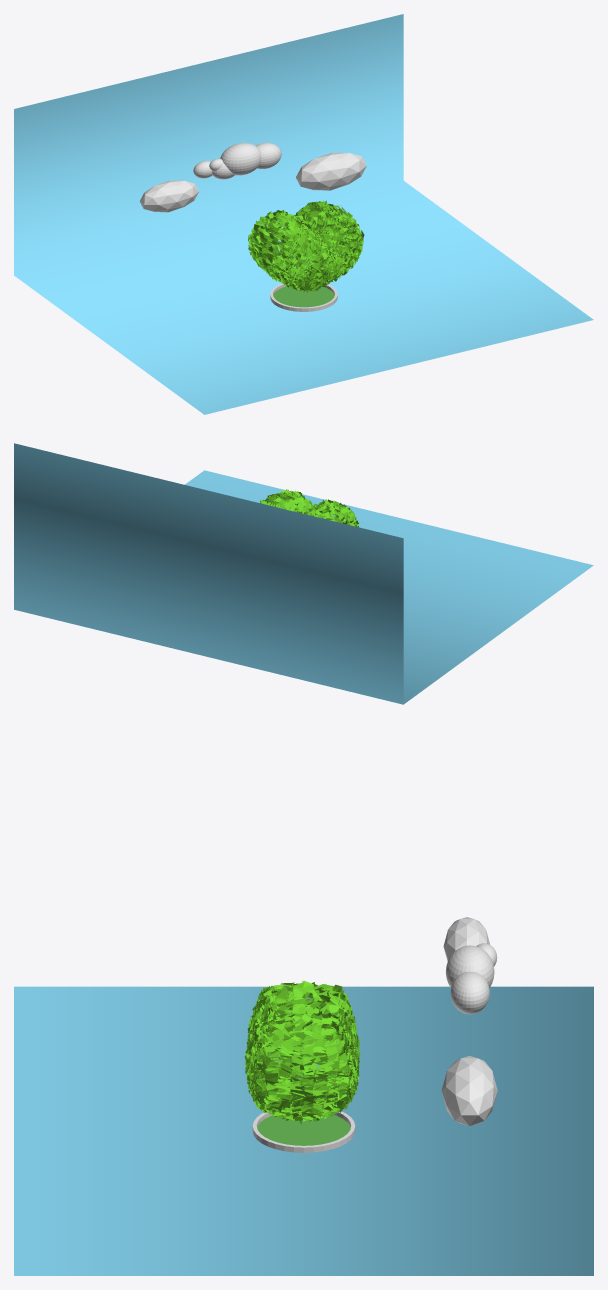
Rendered from 爱心树.glb.
The picture shows the model from 3 angles, top to bottom: view 1: azimuth 30°, elevation 25°; view 2: azimuth 150°, elevation 25°; view 3: azimuth 270°, elevation 25°; orthographic projection. The views are drawn at different scales.
Visible parts, largest first — view 1: 平面.002, 叶子, 叶子2, 球体, 棱角球, 地台, 棱角球.001; view 2: 平面.002, 叶子2, 叶子; view 3: 平面.002, 叶子, 叶子2, 地台, 棱角球, 球体, 棱角球.001.
Part boxes in pixels (<box>): 平面.002: <box>14,14,593,414</box>; 叶子: <box>248,200,364,292</box>; 叶子2: <box>248,201,358,288</box>; 球体: <box>193,142,281,179</box>; 棱角球: <box>296,152,366,190</box>; 地台: <box>270,283,337,311</box>; 棱角球.001: <box>139,180,198,212</box>; 平面.002: <box>14,443,593,704</box>; 叶子2: <box>263,491,358,526</box>; 叶子: <box>260,489,359,527</box>; 平面.002: <box>14,986,593,1275</box>; 叶子: <box>244,980,360,1124</box>; 叶子2: <box>251,980,359,1112</box>; 地台: <box>252,1111,355,1152</box>; 棱角球: <box>441,1056,497,1125</box>; 球体: <box>446,943,497,1014</box>; 棱角球.001: <box>443,917,489,961</box>.
Size of the model in its own units: 13.35 by 5.58 by 11.31.
